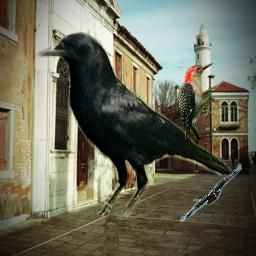Crow: (35, 32, 234, 220), (179, 163, 243, 222)
Woodpecker: (178, 63, 219, 140)
